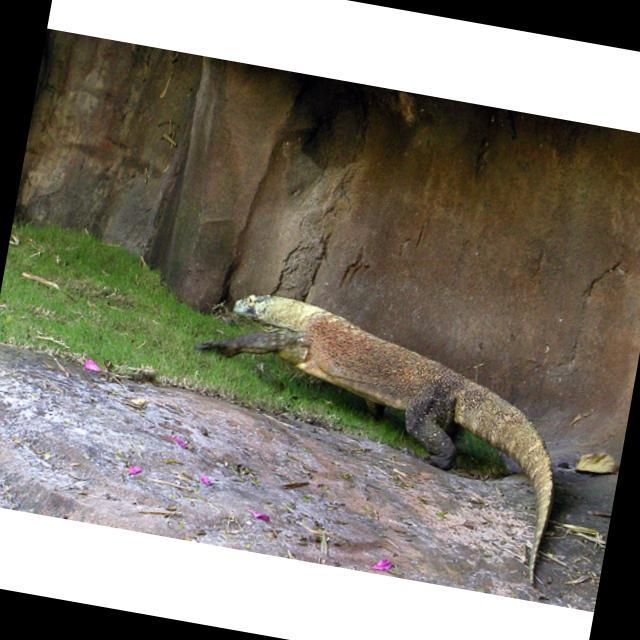KomodoDragon: (164, 279, 586, 590)
